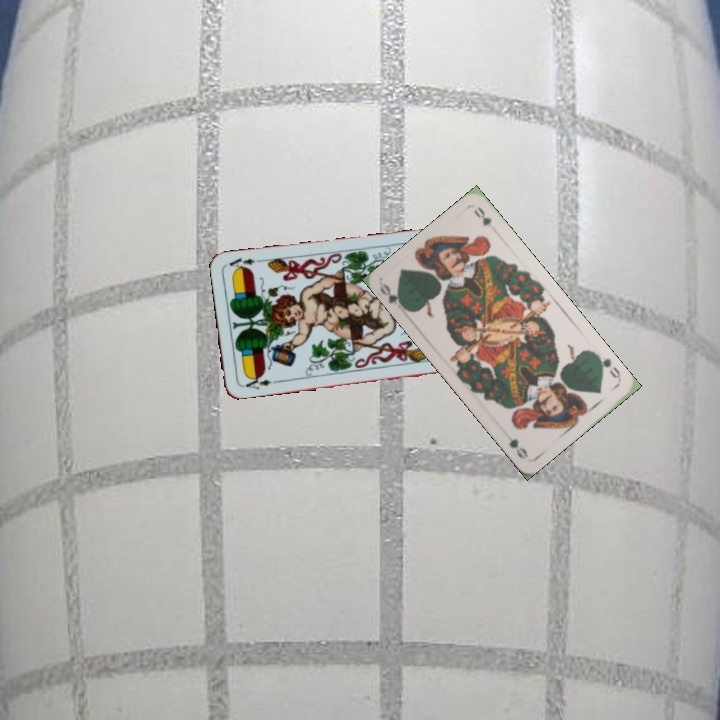EA: (238, 372, 274, 392)
GO: (376, 280, 411, 313), (592, 350, 623, 384)
